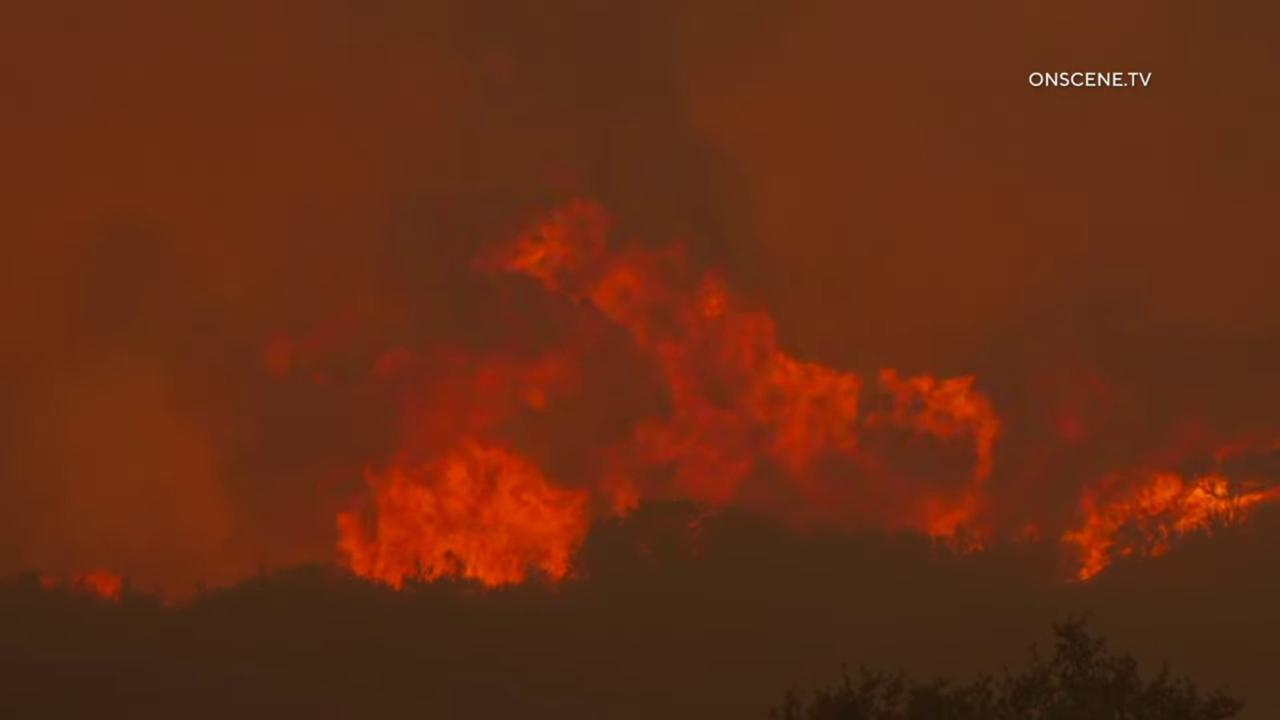fire: (265, 194, 1280, 603), (35, 561, 126, 605)
smoke: (0, 0, 1280, 720)
